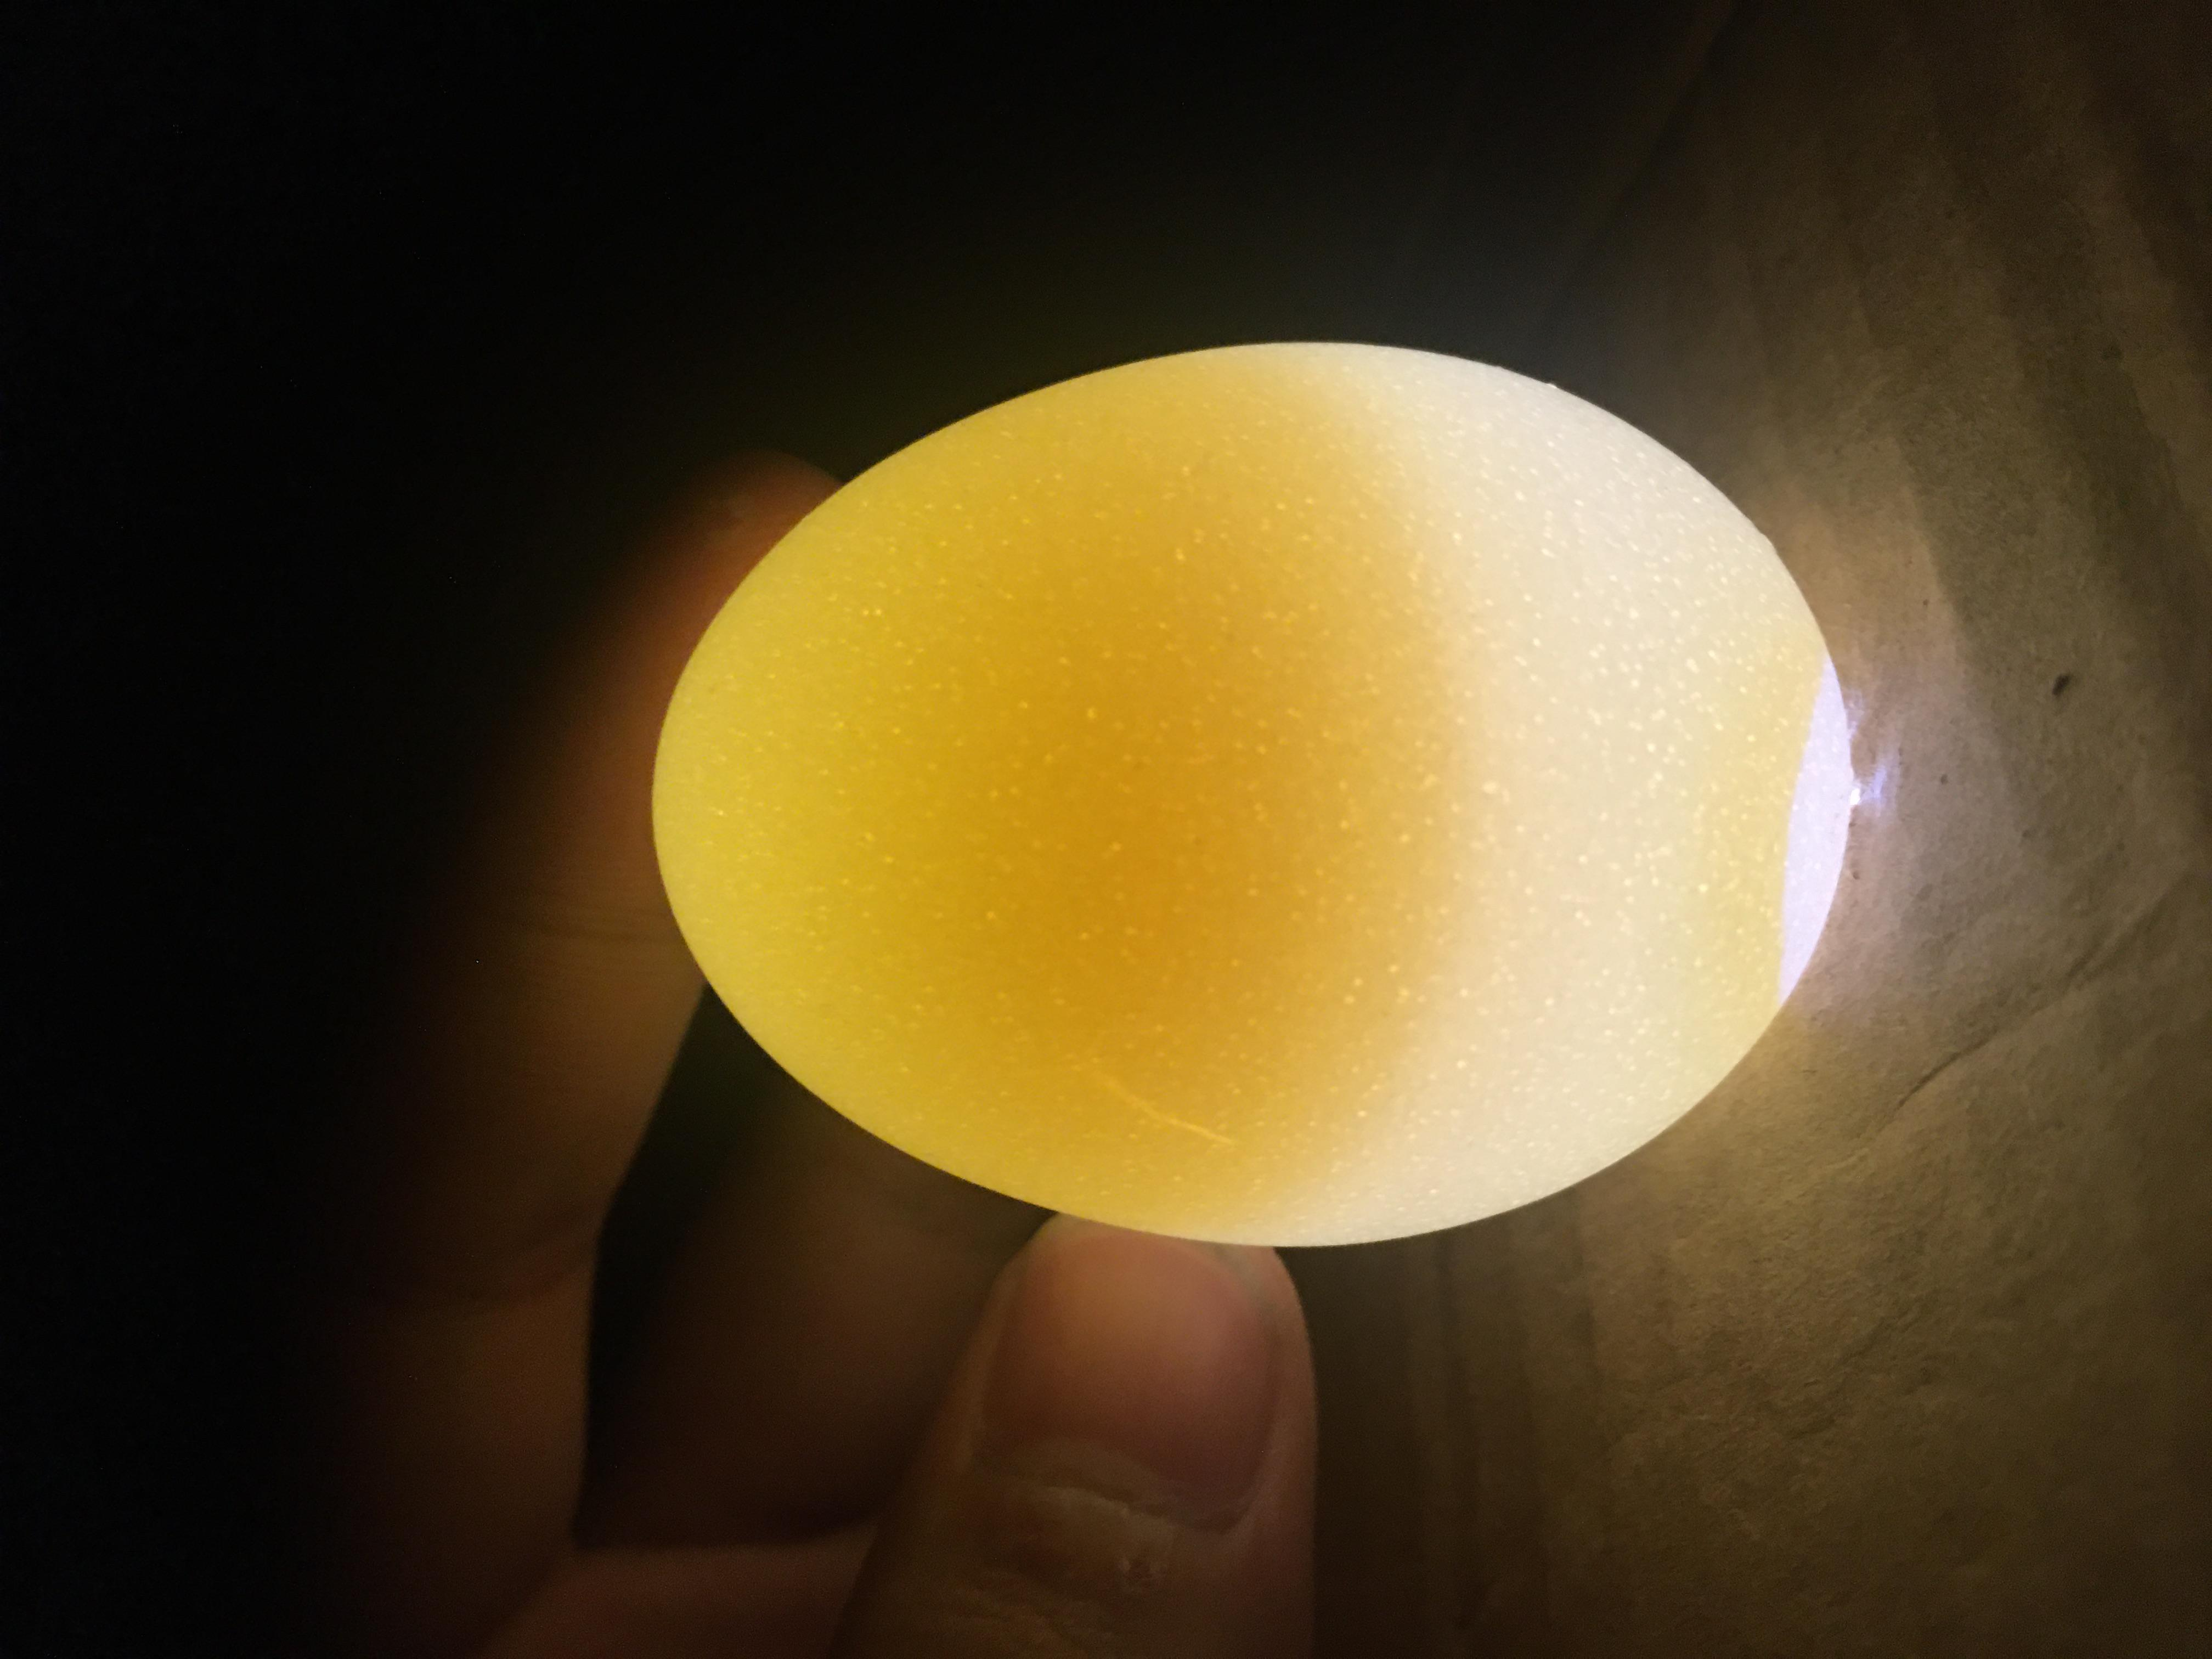A - Good: (542, 483, 1766, 1427)
